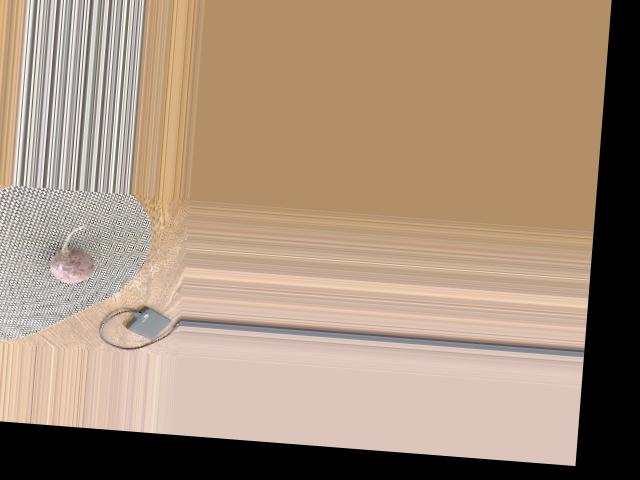beet: (49, 222, 98, 284)
